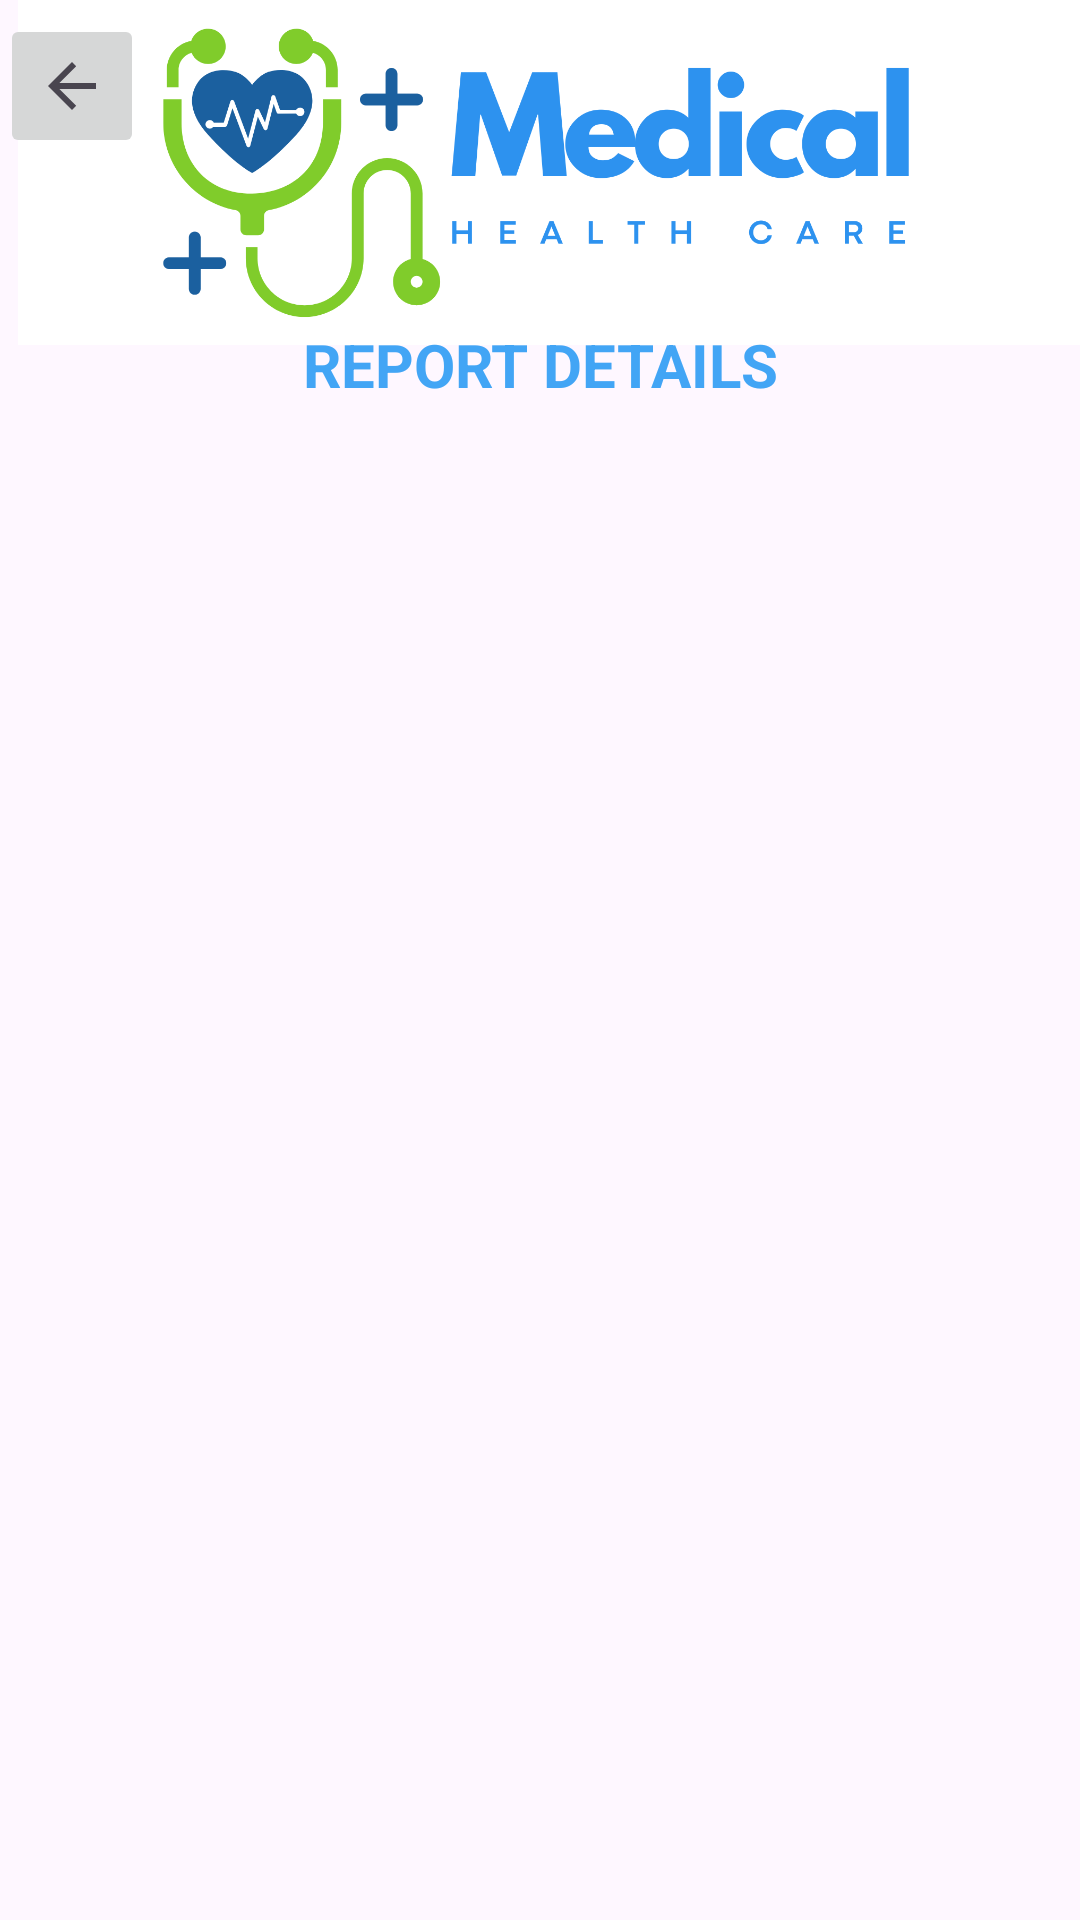

Named icons in this screenshot (1080x1920) and their bounding boxes, [x1, y1, x2, y2]:
Back Button: [12, 32, 132, 140]
